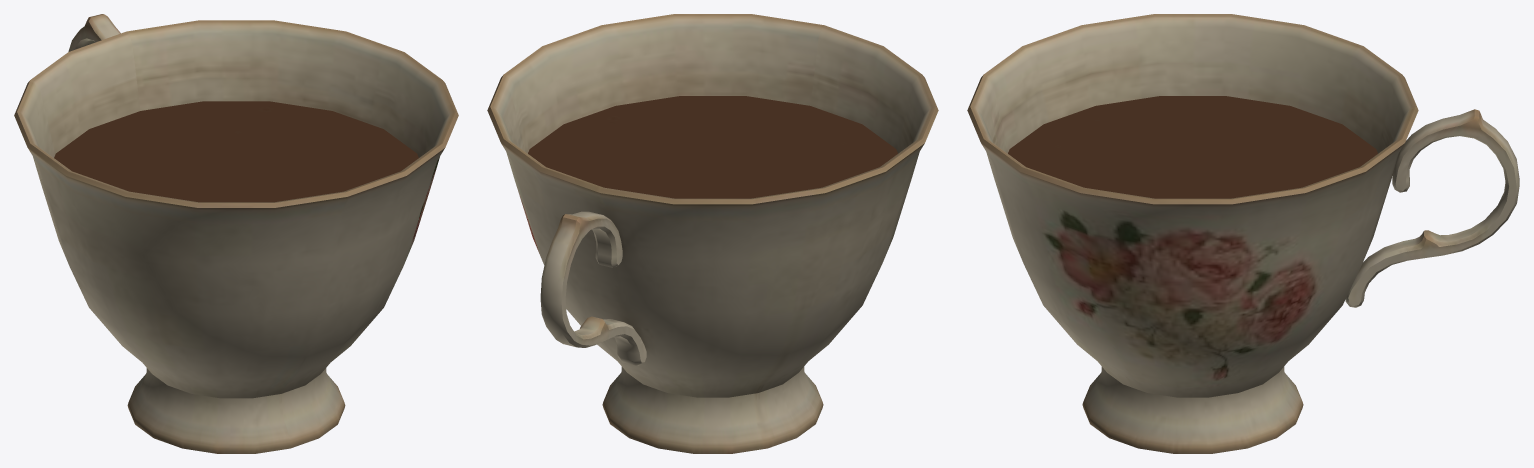
File: teacup-tea.glb
The picture shows the model from 3 angles, left to right: view 1: azimuth 30°, elevation 25°; view 2: azimuth 150°, elevation 25°; view 3: azimuth 270°, elevation 25°; orthographic projection.
Visible parts, largest first — view 1: teacup-tea; view 2: teacup-tea; view 3: teacup-tea.
Boxes of the visible parts, x1,y1,x2,y2 form: teacup-tea: (14, 14, 458, 453); teacup-tea: (487, 14, 938, 453); teacup-tea: (967, 14, 1519, 453).
Bounding box in the file's own units: 0.0824 × 0.0617 × 0.1024.
Materials: 2 (2 with a texture image).
